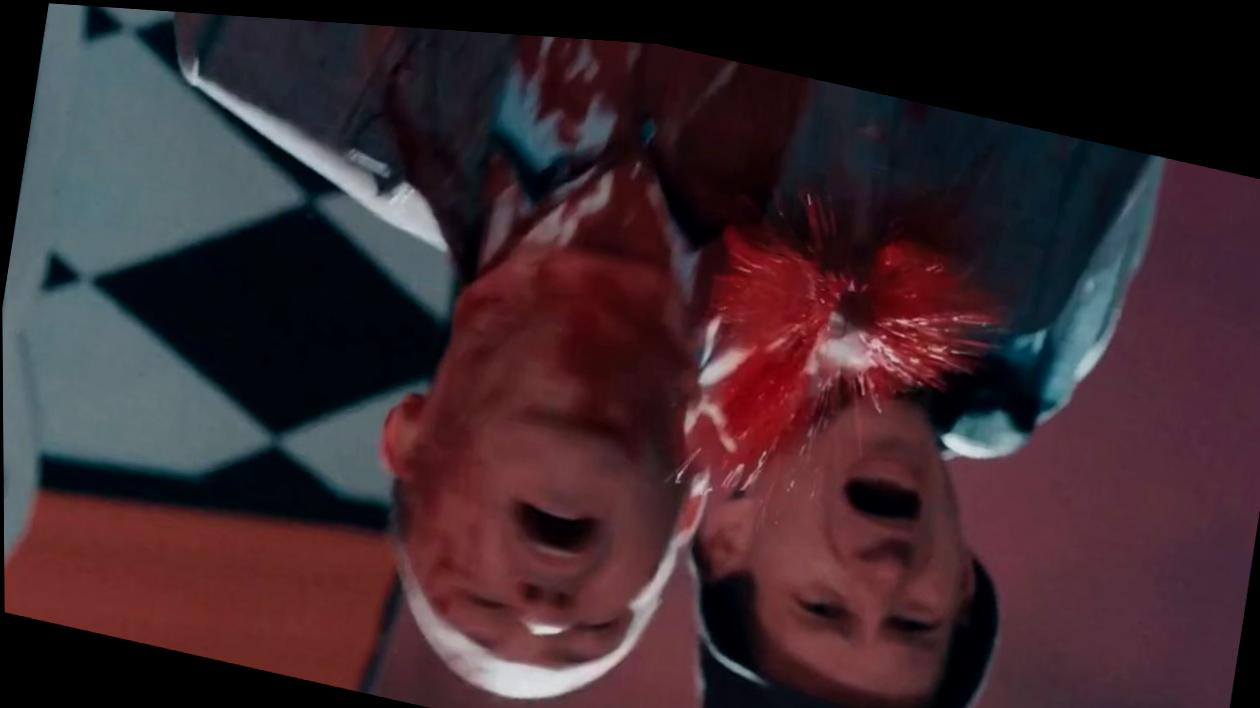Fire: (348, 19, 1023, 662), (697, 181, 1003, 476)
